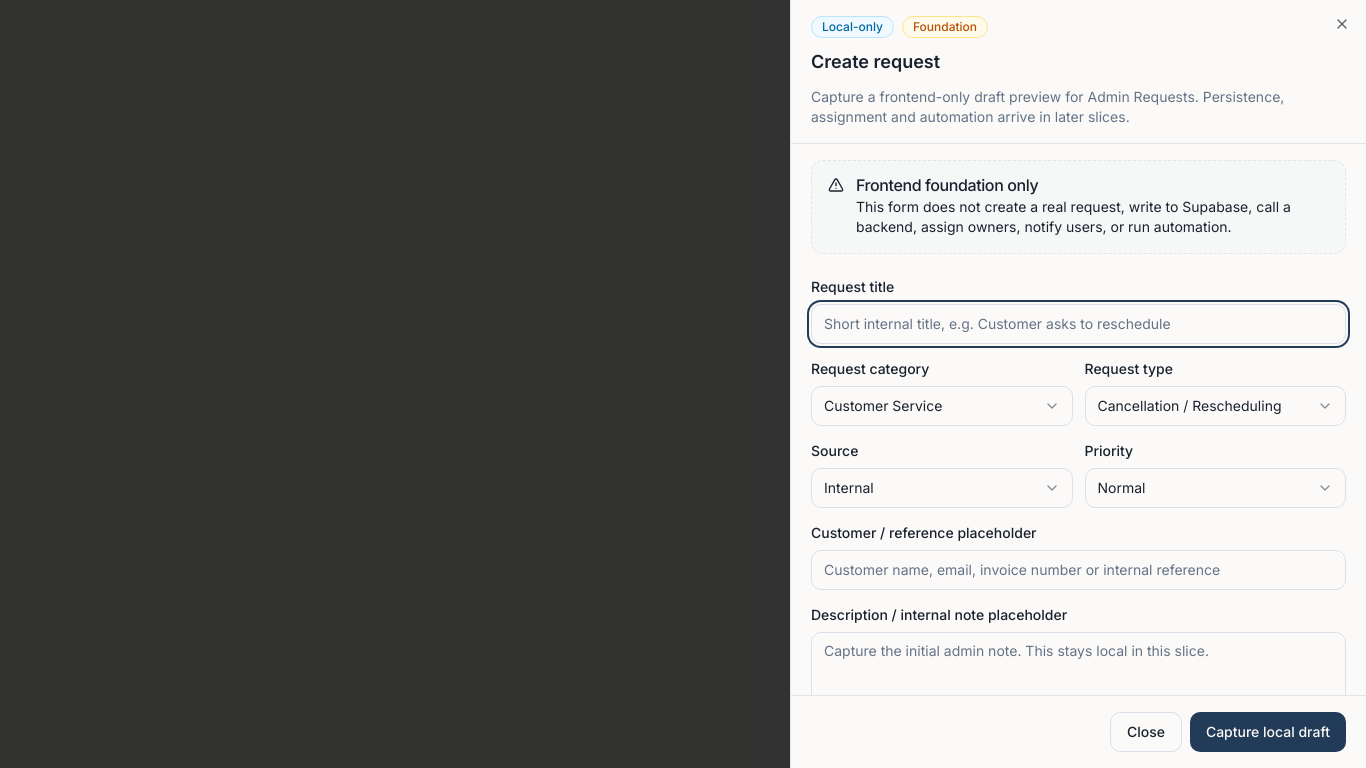
Test case: RequestCreateSheet — local-only create foundation › submits to local preview only without fetch or mock-list mutation
Type "Manual admin intake preview" into the field with test id "crm-request-create-title".
click(1078, 324); type("Manual admin intake preview")  # box [811,304,1346,344]
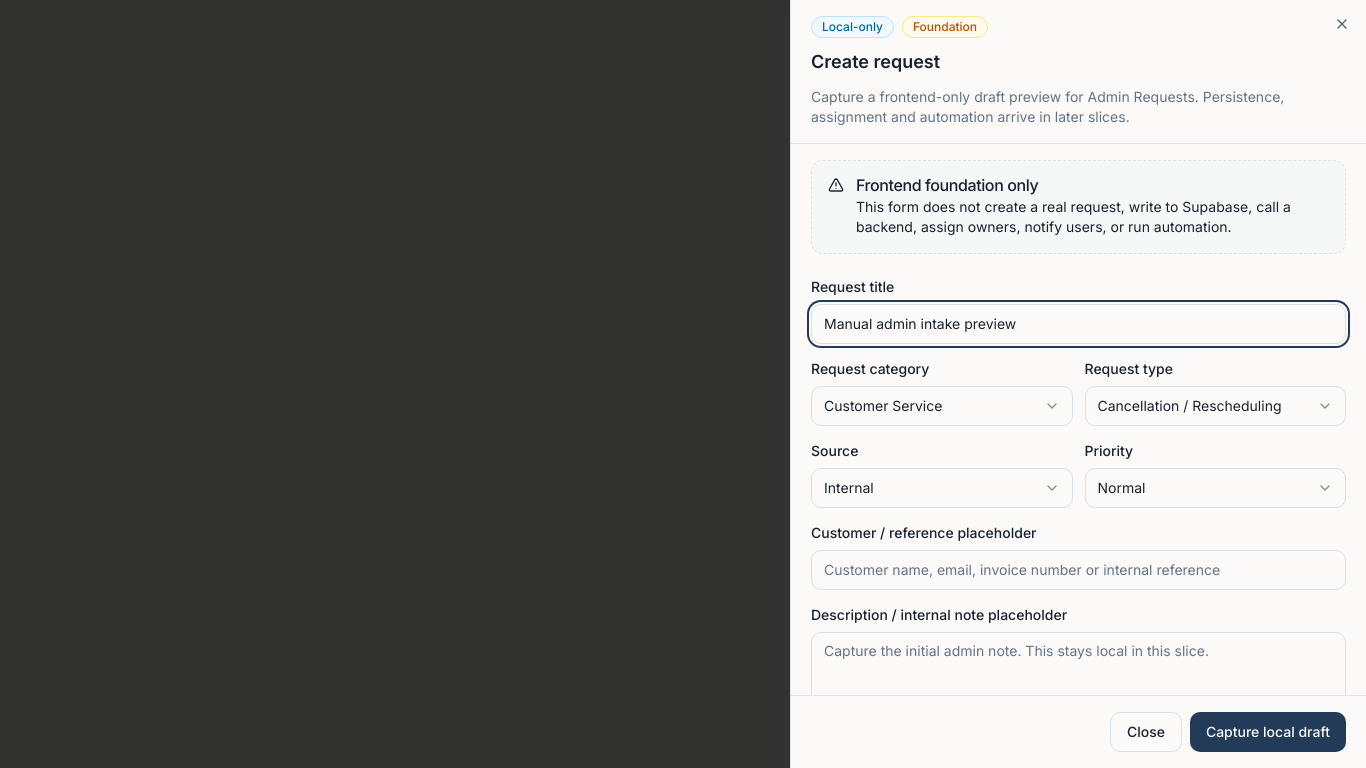
Type "Customer ACME / invoice 123" into the field with test id "crm-request-create-customer".
click(1078, 570); type("Customer ACME / invoice 123")  # box [811,550,1346,590]
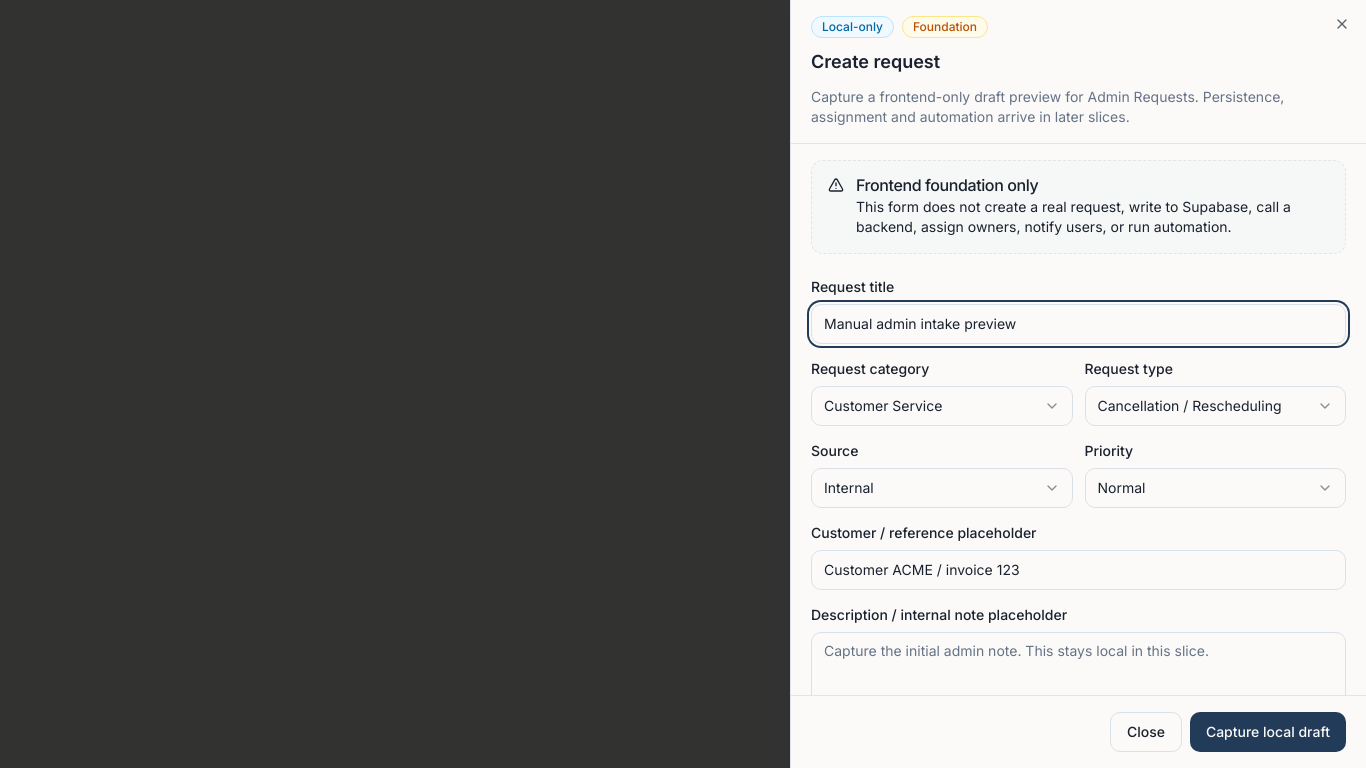
Replace the text in the text box with test id "crm-request-create-description" with "Internal admin note captured for UI preview only." at x=1078, y=681, box [811,632,1346,730]
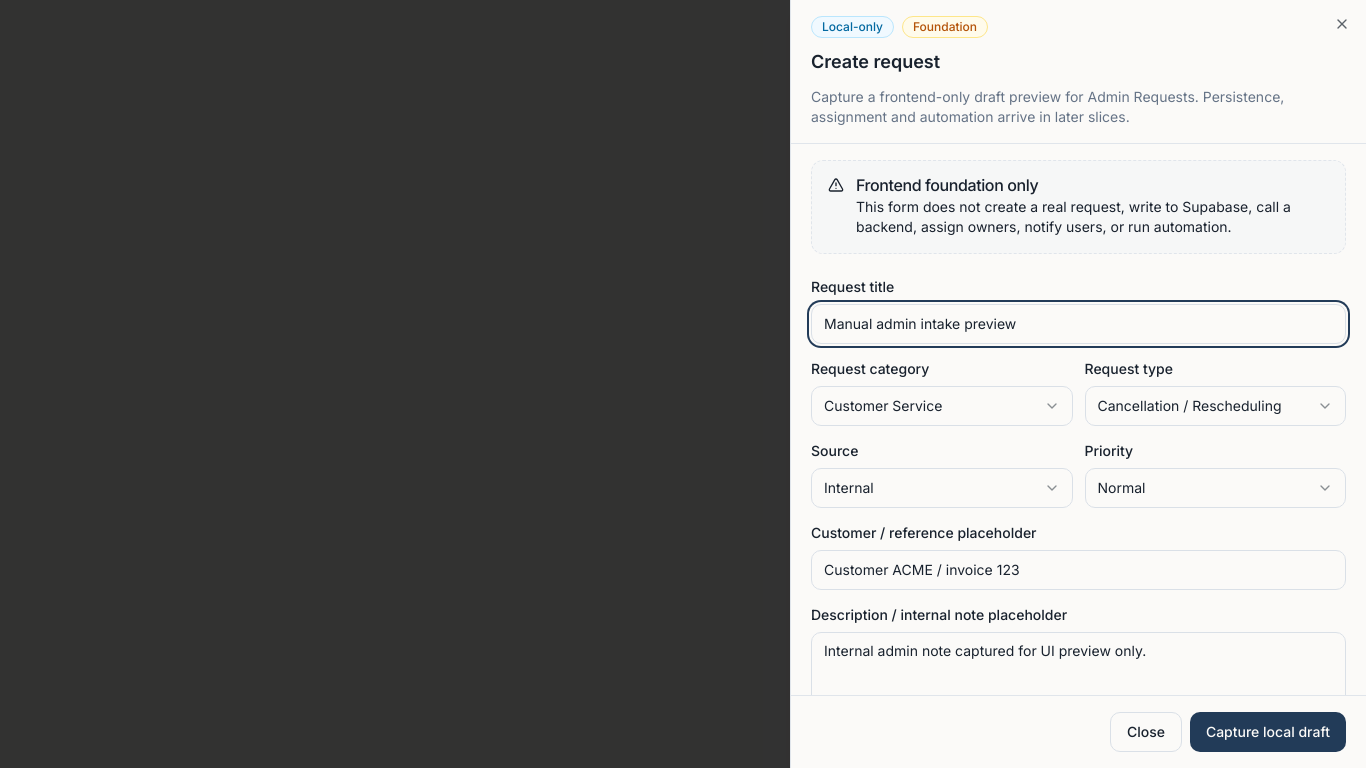
Click the button with test id "crm-request-create-submit".
click(1268, 732)  # box [1190,712,1346,752]
(page scrolled)
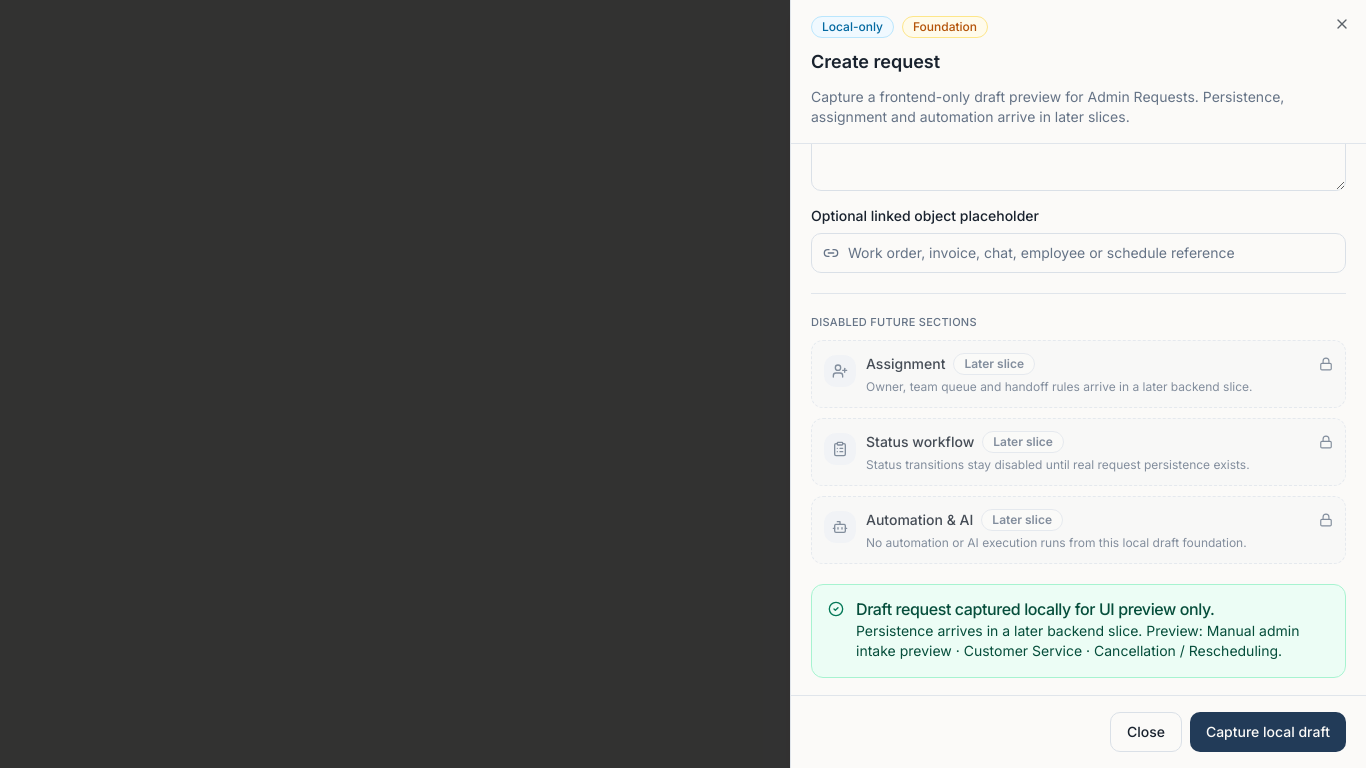
Expected: the message with test id "crm-request-create-success" shows "Draft request captured locally for UI preview only.", [856,599,1215,619]
Expected: the message with test id "crm-request-create-success" shows "Persistence arrives in a later backend slice.", [856,622,1207,639]
